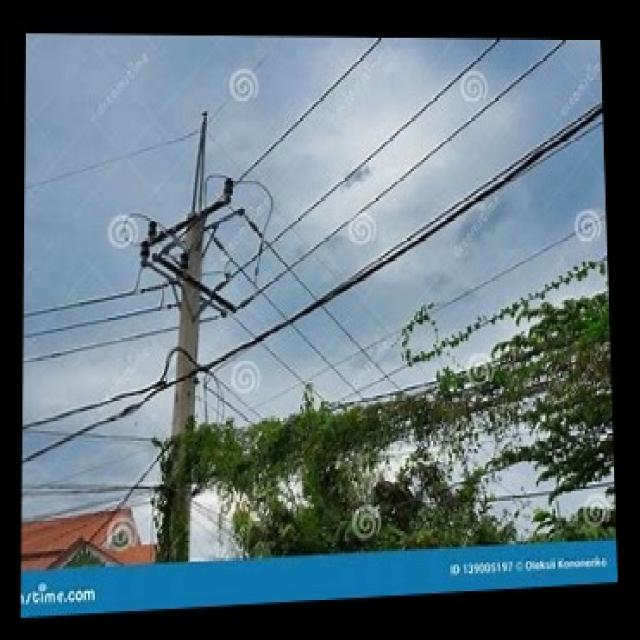critical vegetation: (182, 360, 612, 524)
